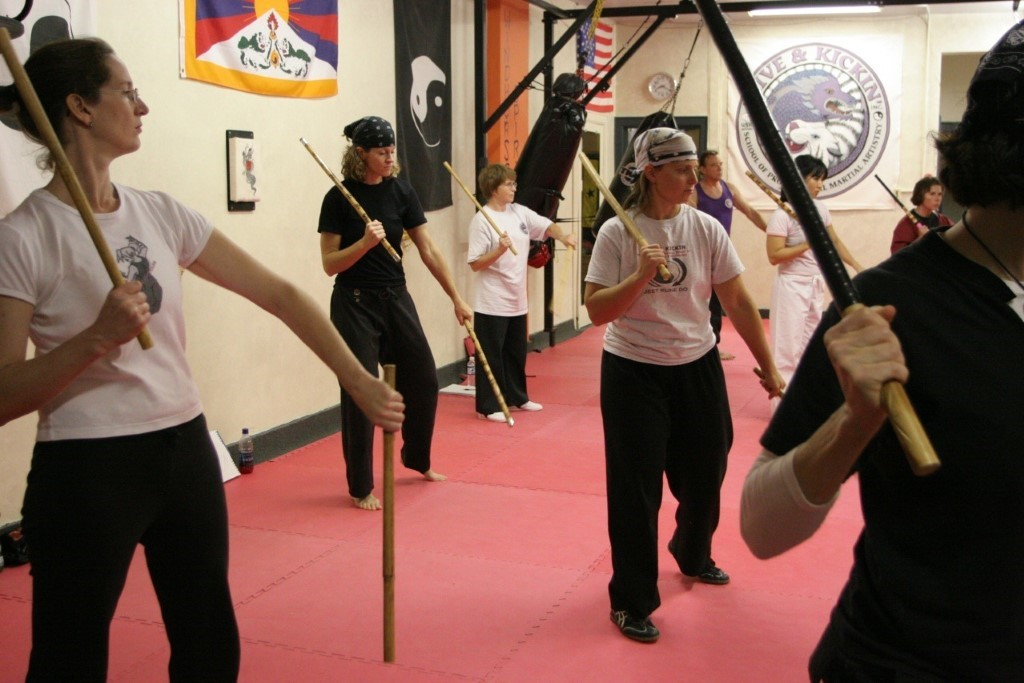baston_e: (694, 5, 934, 441), (0, 43, 143, 333), (300, 141, 398, 257), (578, 155, 668, 269), (443, 164, 517, 249), (381, 367, 398, 656), (463, 323, 513, 417), (874, 178, 921, 227), (748, 175, 796, 222)
baston_v: (904, 436, 951, 483), (137, 333, 161, 355), (380, 649, 400, 669), (747, 363, 769, 376), (381, 360, 398, 374), (658, 267, 673, 282), (391, 253, 403, 265), (576, 150, 588, 161), (506, 416, 516, 427), (743, 169, 753, 177), (512, 248, 520, 257), (297, 135, 304, 144), (441, 159, 447, 167), (873, 172, 877, 177)
